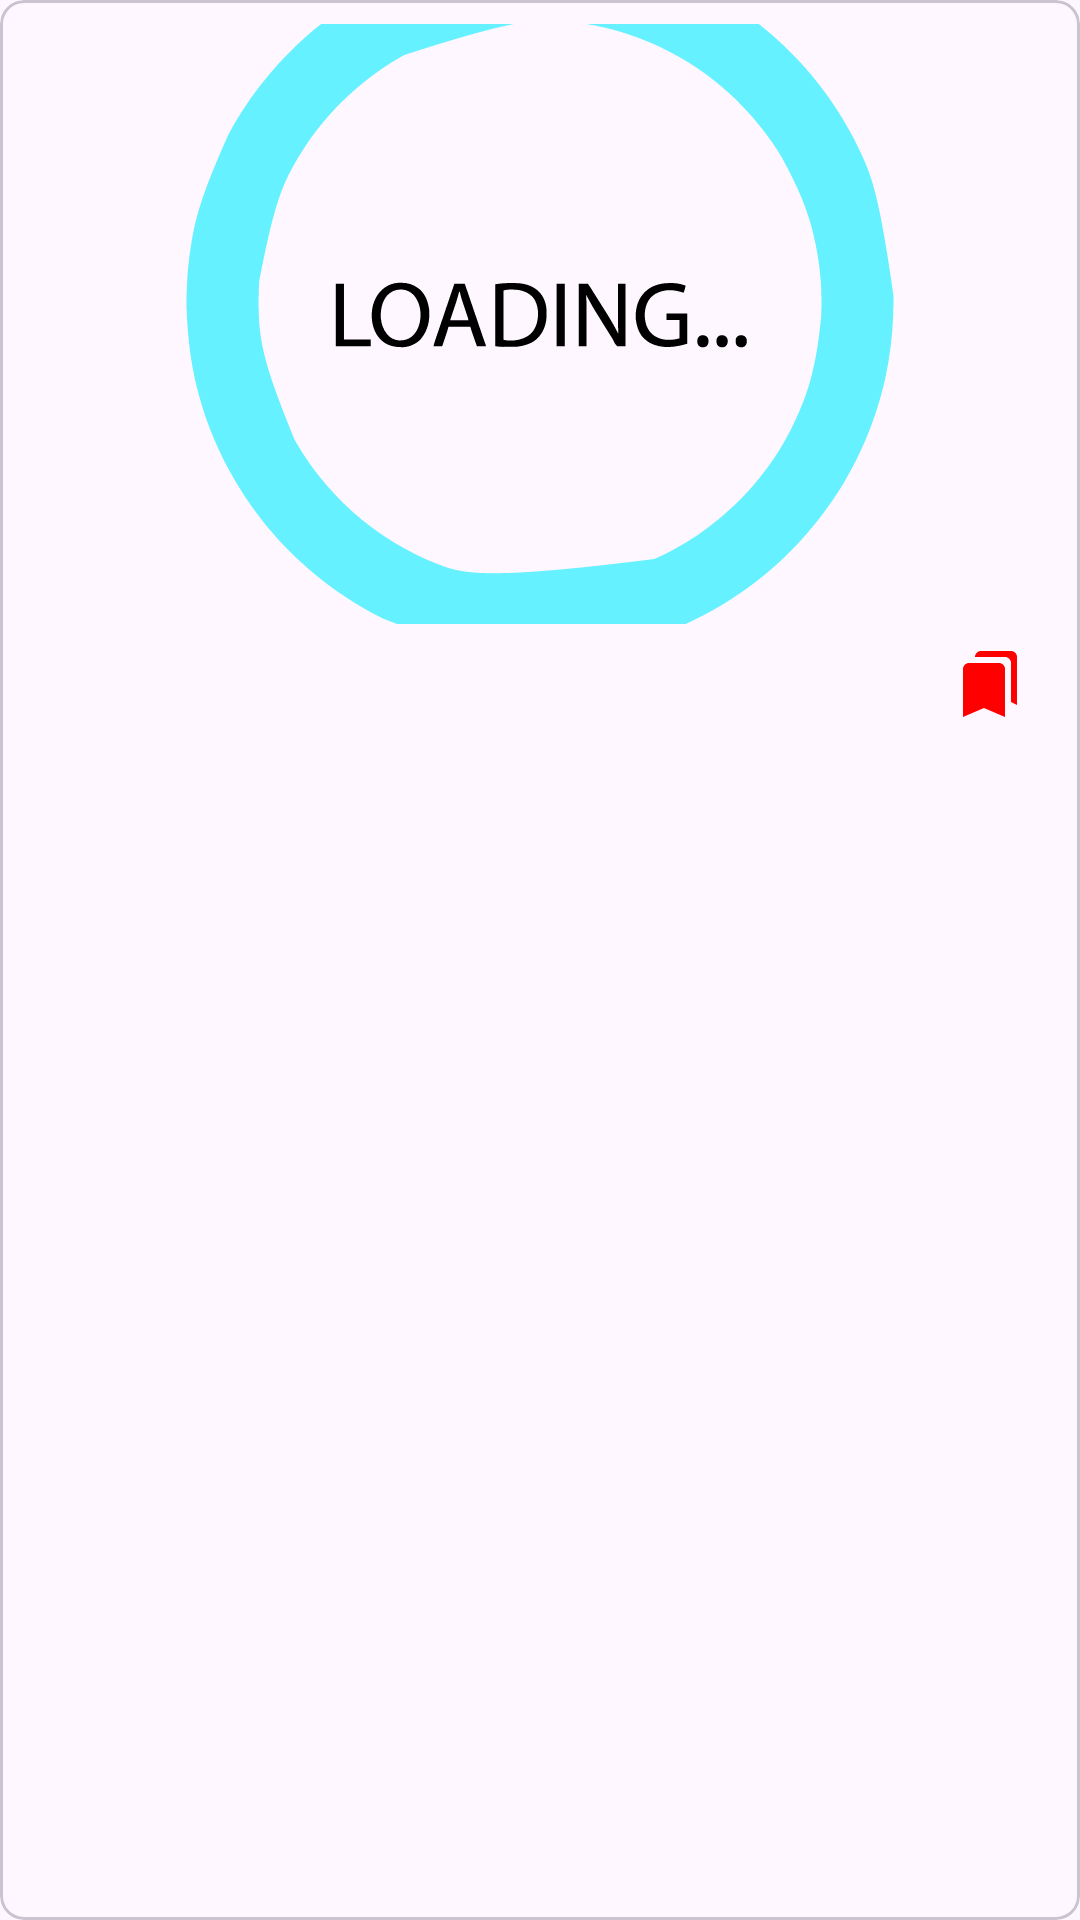

Where icons sit on this 1080w x 1920h app screen, as rect(x1, y1, x2, y2):
bookmarks: rect(963, 651, 1017, 717)
